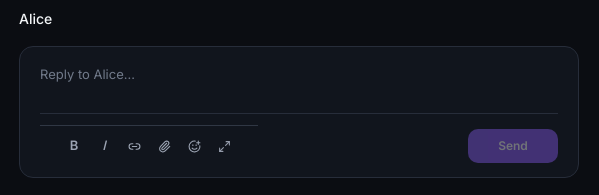
ReplyComposer › wraps selected text with bold markdown and keeps focus
Type "hello" into the text box labelled "Reply to Alice" at [299, 80], box [20,47,578,113]
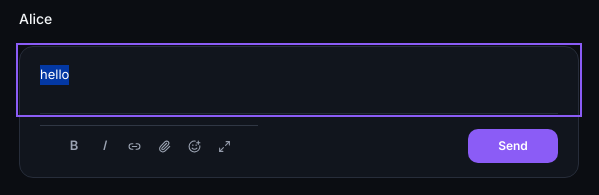
Click the button named "Bold" at [74, 146], box [60,132,88,160]
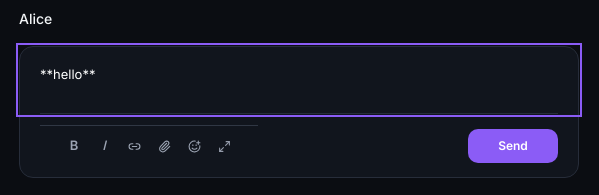
Expected: the text box named "Reply to Alice" holds "**hello**", [20,47,578,113]
